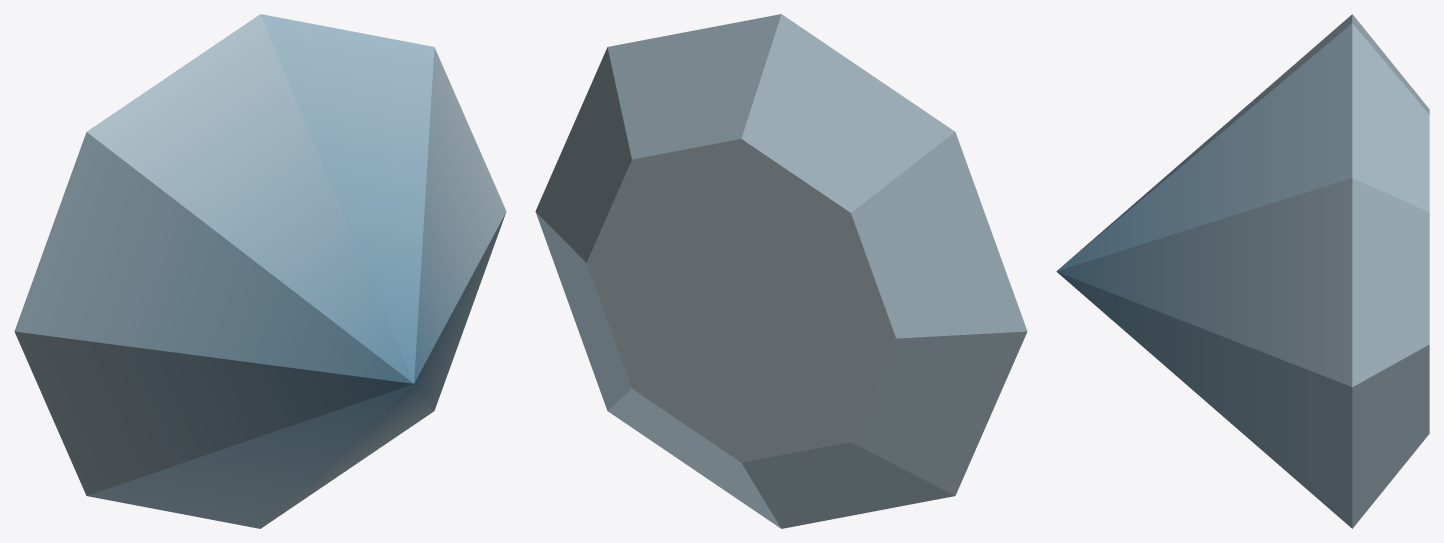
The model's file is Diamond.001.glb.
The picture shows the model from 3 angles, left to right: view 1: azimuth 30°, elevation 25°; view 2: azimuth 150°, elevation 25°; view 3: azimuth 270°, elevation 25°; orthographic projection. The views are drawn at different scales.
Parts seen in each view (by area): view 1: Diamond.001; view 2: Diamond.001; view 3: Diamond.001.
Boxes of the visible parts, x1,y1,x2,y2 form: Diamond.001: [14, 14, 506, 528]; Diamond.001: [535, 14, 1027, 528]; Diamond.001: [1056, 14, 1429, 528].
Size of the model in its own units: 66.94 by 66.94 by 45.63.
